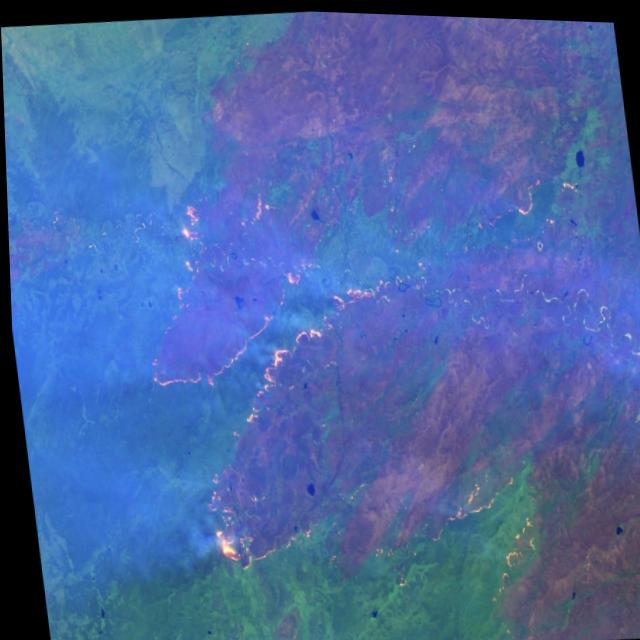fire: (131, 179, 412, 584)
